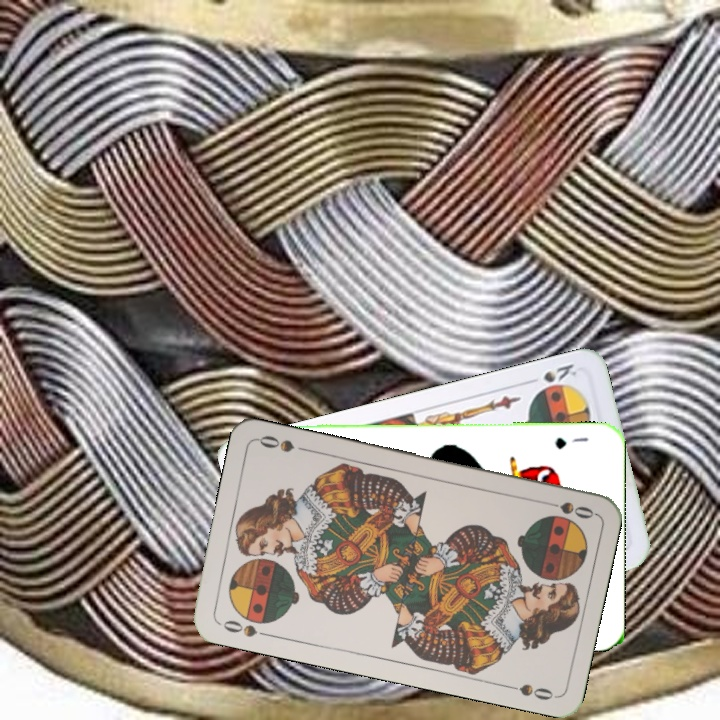GU: (551, 433, 590, 452)
SK: (533, 359, 580, 395)
SO: (538, 496, 596, 522), (215, 616, 274, 640)
